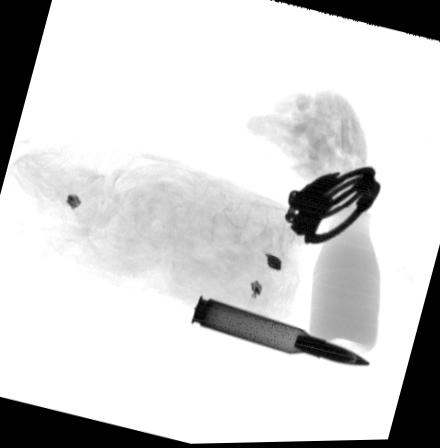Bullet: (189, 295, 374, 368)
HandCuffs: (286, 170, 381, 250)
